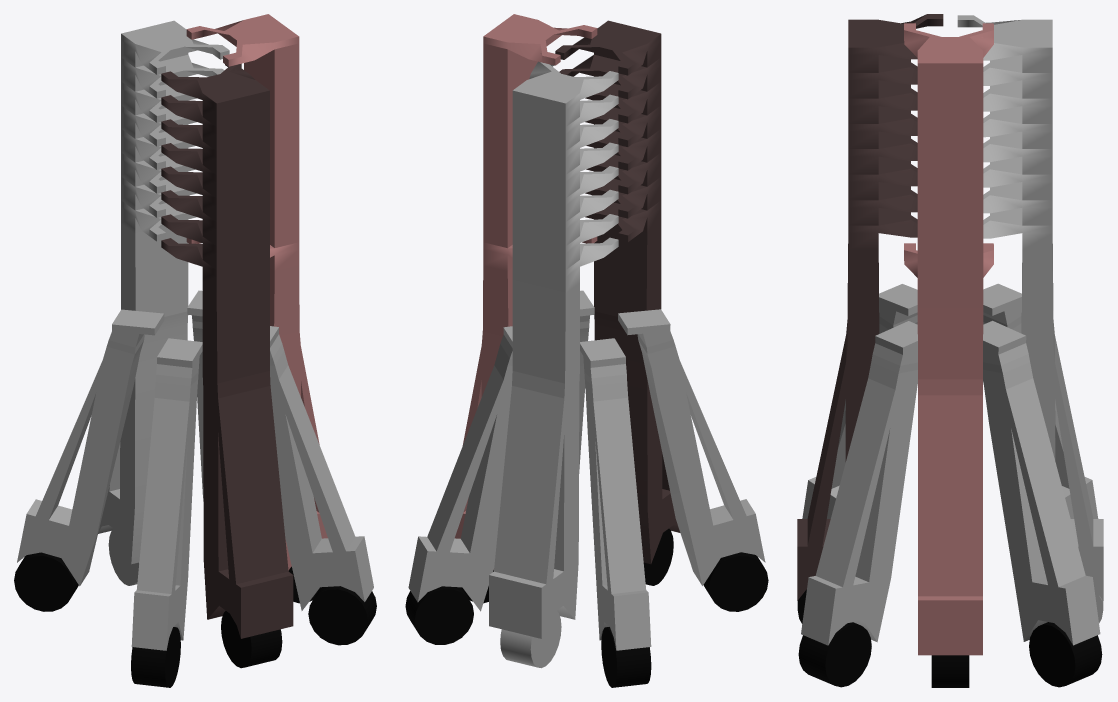
The model's file is newSc.fbx.
The picture shows the model from 3 angles, left to right: view 1: azimuth 30°, elevation 25°; view 2: azimuth 150°, elevation 25°; view 3: azimuth 270°, elevation 25°; orthographic projection. The views are drawn at different scales.
Parts seen in each view (by area): view 1: Claw8 (×2), Claw9 (×5), pCylinder1 (×5); view 2: Claw8 (×2), Claw9 (×5), pCylinder1 (×5); view 3: Claw9 (×5), Claw8 (×2), pCylinder1 (×3).
Part boxes in pixels (x1,y1,x2,y2): Claw8 (×2): (98, 20, 293, 638); Claw9 (×5): (17, 14, 373, 650); pCylinder1 (×5): (14, 528, 376, 687); Claw8 (×2): (489, 20, 680, 638); Claw9 (×5): (408, 14, 765, 650); pCylinder1 (×5): (405, 528, 768, 687); Claw9 (×5): (801, 23, 1100, 655); Claw8 (×2): (797, 14, 1103, 600); pCylinder1 (×3): (798, 622, 1102, 687).
Size of the model in its own units: 16.52 by 35.9 by 16.22.
